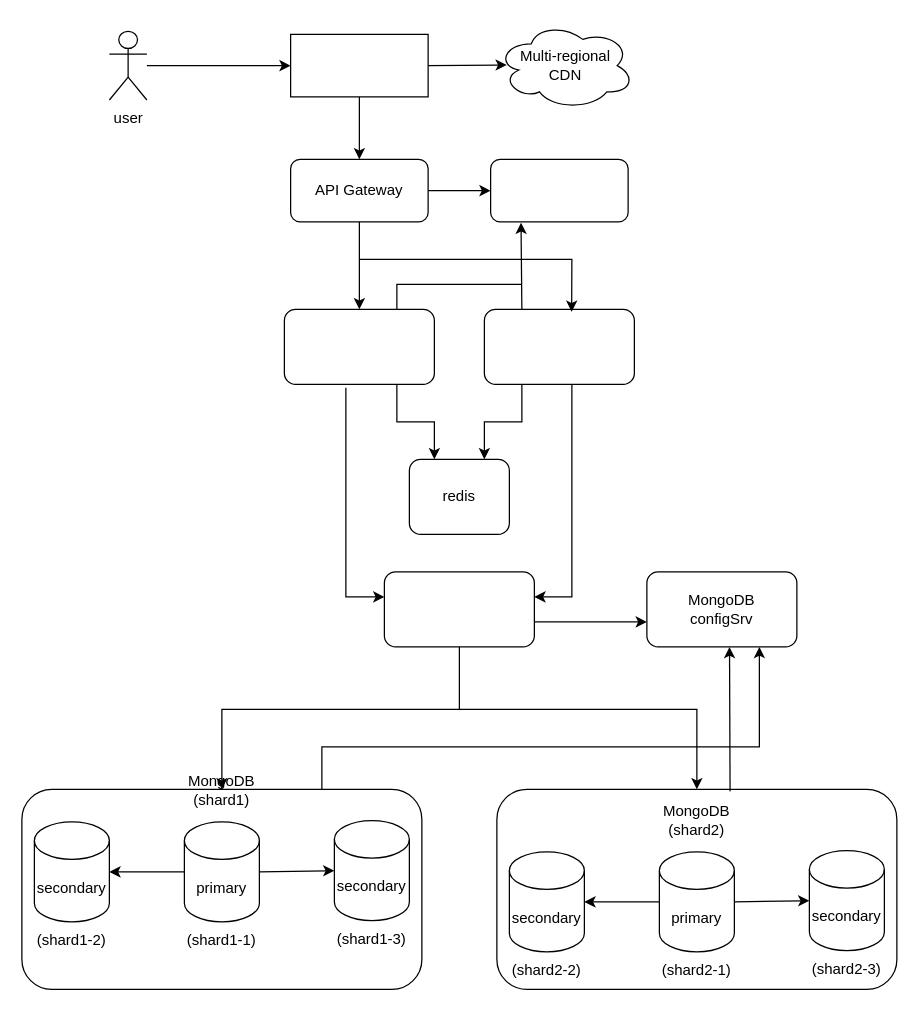
Image size: 919x1011. Some labels were removed from this diagram. Here are the shapes that lost their labels. From the top down, the box of each, then its label:
(289, 33, 428, 97): web app
(489, 158, 628, 222): Consul
(283, 308, 434, 384): pymongo-api1
(483, 308, 634, 384): pymongo-api2
(383, 571, 534, 647): MongoDB mongos_router
